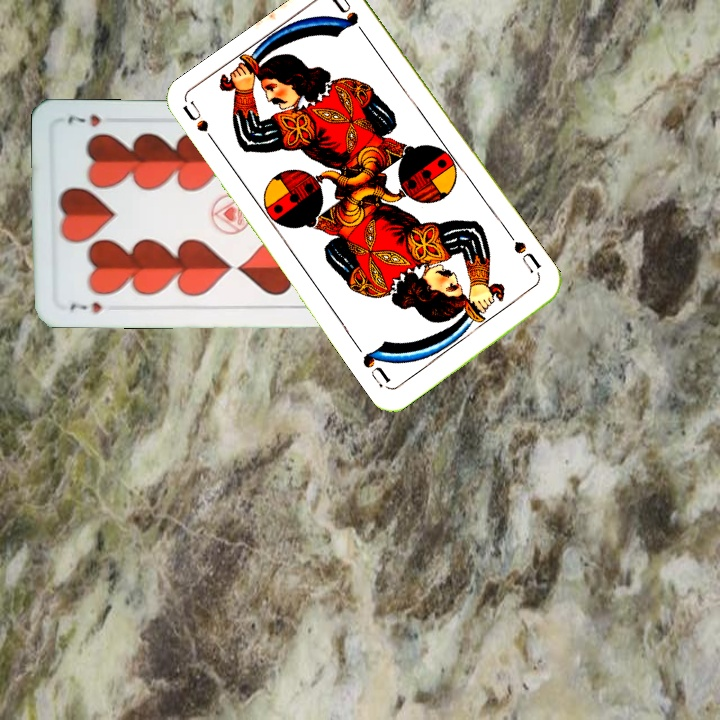H7: (66, 298, 108, 315)
SU: (180, 98, 223, 152), (504, 229, 544, 276)
